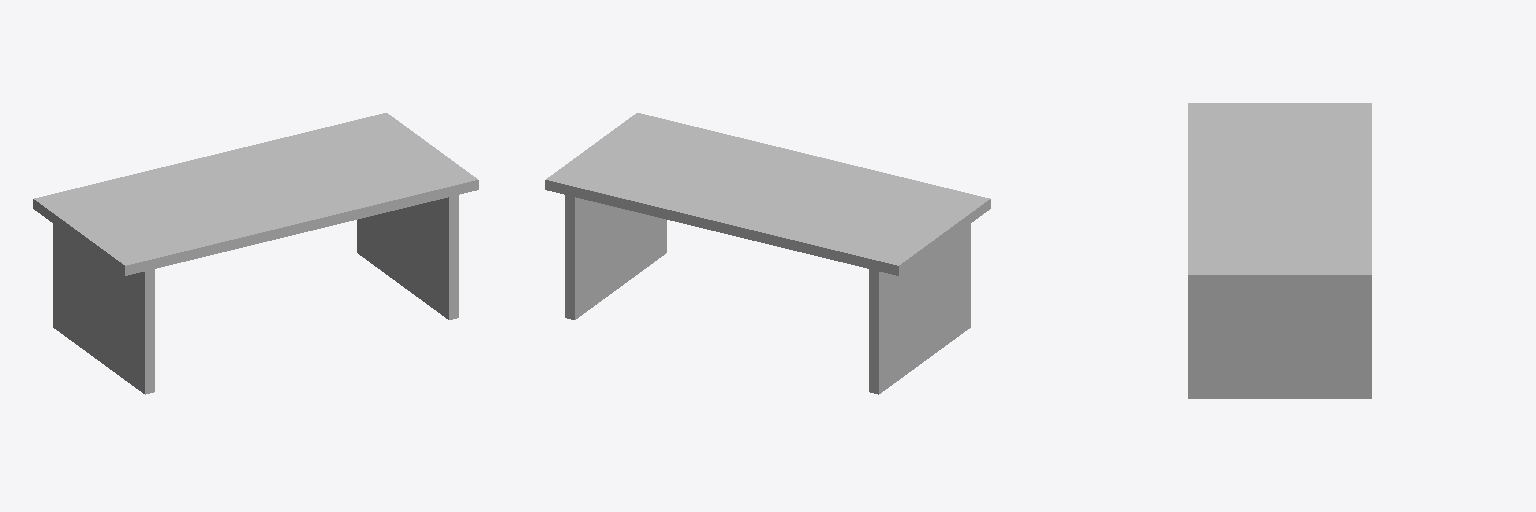
Rendered from desk.obj.
The picture shows the model from 3 angles: view 1: azimuth 30°, elevation 25°; view 2: azimuth 150°, elevation 25°; view 3: azimuth 270°, elevation 25°; orthographic projection.
Visible parts, largest first — view 1: Cube.002; view 2: Cube.002; view 3: Cube.002.
Part boxes in pixels (bbox=[...]): Cube.002: bbox=[33, 113, 478, 394]; Cube.002: bbox=[545, 113, 990, 394]; Cube.002: bbox=[1188, 103, 1371, 398].
Bounding box in the file's own units: 1.8 × 0.65 × 0.81.